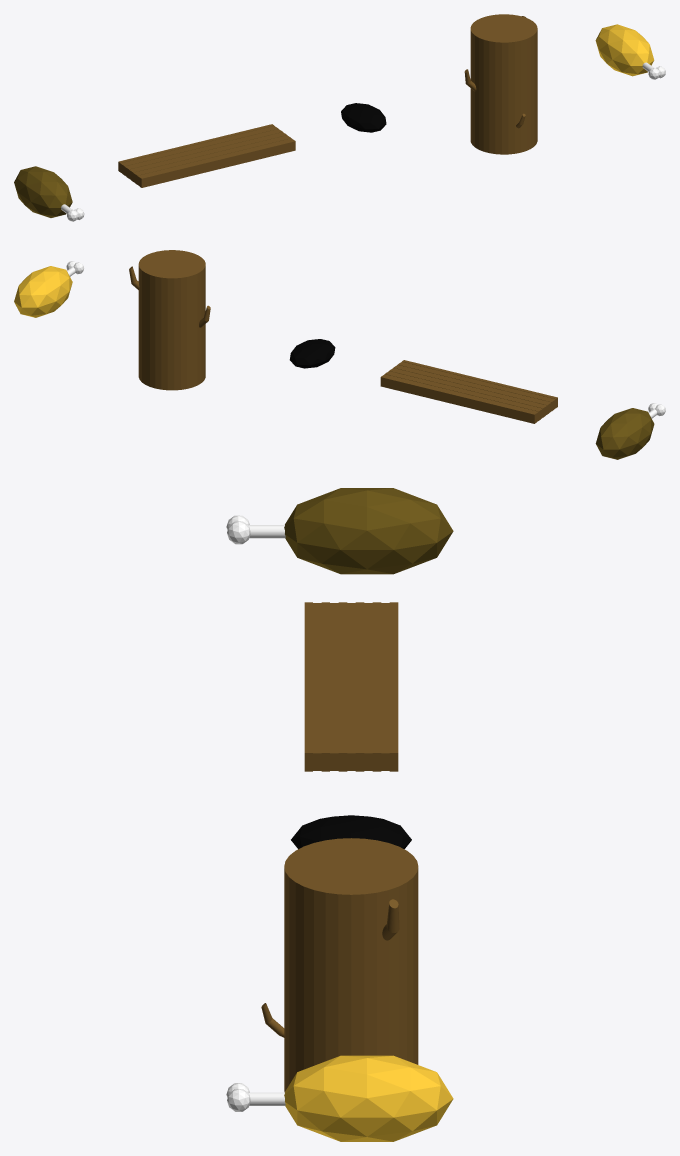
The model's file is Resources.fbx.
The picture shows the model from 3 angles, top to bottom: view 1: azimuth 30°, elevation 25°; view 2: azimuth 150°, elevation 25°; view 3: azimuth 270°, elevation 25°; orthographic projection. The views are drawn at different scales.
Visible parts, largest first — view 1: Cylinder.002, Cube.002, Icosphere.004, Icosphere.002, Icosphere; view 2: Cylinder.002, Cube.002, Icosphere.004, Icosphere.002, Icosphere; view 3: Cylinder.002, Cube.002, Icosphere.002, Icosphere.004, Icosphere.
Part boxes in pixels (box(x1,y1,x2,y2)): Cylinder.002: box(464, 14, 537, 154); Cube.002: box(118, 124, 295, 187); Icosphere.004: box(595, 24, 665, 79); Icosphere.002: box(14, 166, 84, 221); Icosphere: box(341, 103, 386, 132); Cylinder.002: box(129, 250, 210, 390); Cube.002: box(380, 360, 557, 423); Icosphere.004: box(14, 261, 84, 317); Icosphere.002: box(595, 403, 665, 459); Icosphere: box(289, 339, 335, 368); Cylinder.002: box(261, 838, 418, 1091); Cube.002: box(304, 602, 398, 771); Icosphere.002: box(226, 488, 453, 574); Icosphere.004: box(226, 1055, 453, 1141); Icosphere: box(291, 815, 411, 849).
Bounding box in the file's own units: 1082 × 187 × 172.
